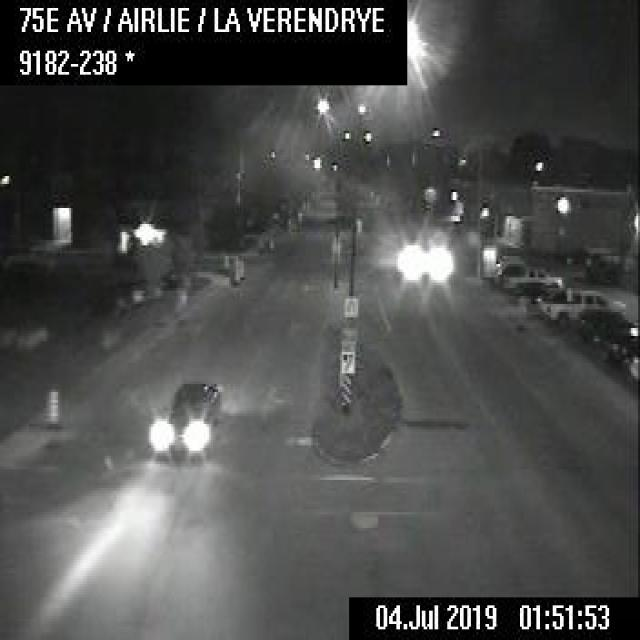construction: (40, 382, 60, 429), (230, 251, 238, 283), (266, 229, 274, 253), (257, 231, 265, 254), (237, 253, 244, 278), (220, 251, 228, 271)
vehicle: (154, 373, 220, 459), (536, 281, 624, 325), (497, 259, 563, 288)
